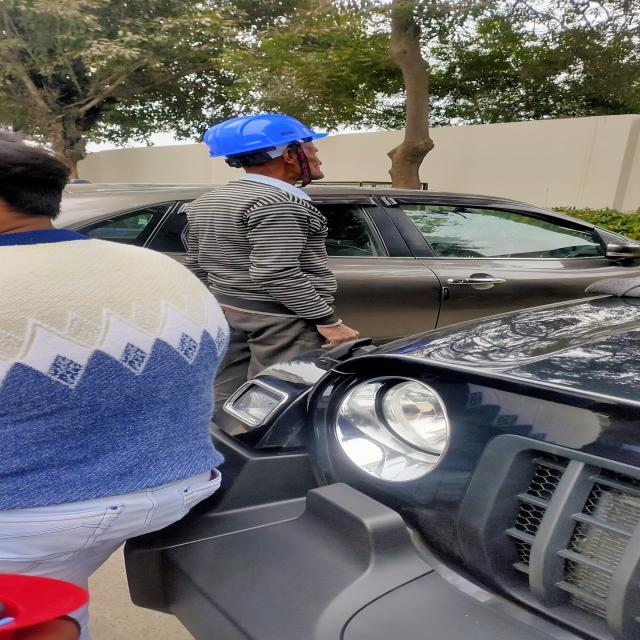no jacket: (185, 113, 364, 343)
unsafe: (0, 130, 235, 580)
